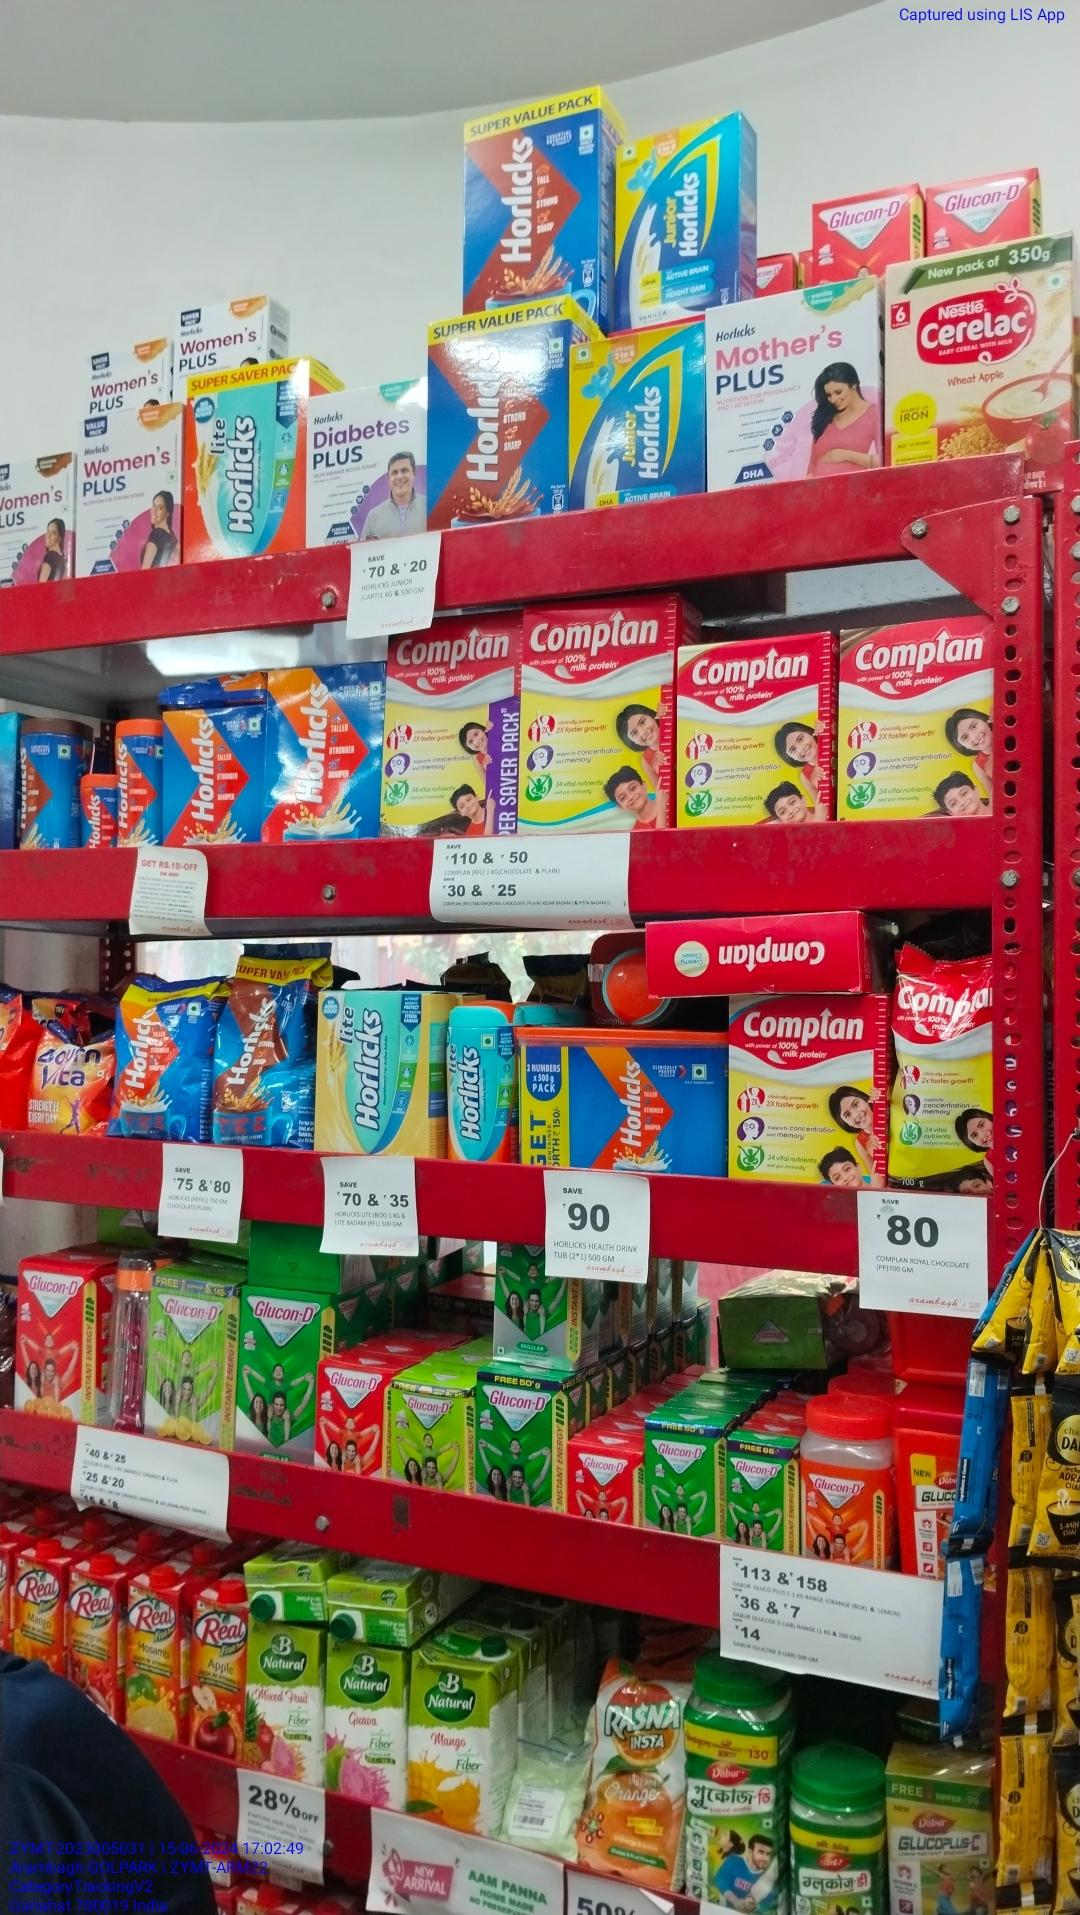HORLICKS_LITE_REGULAR_MALT_500_GM_JAR: (447, 1001, 513, 1163)
HORLICK_MALT_1_KG_CONTAINER: (516, 1021, 726, 1178)
